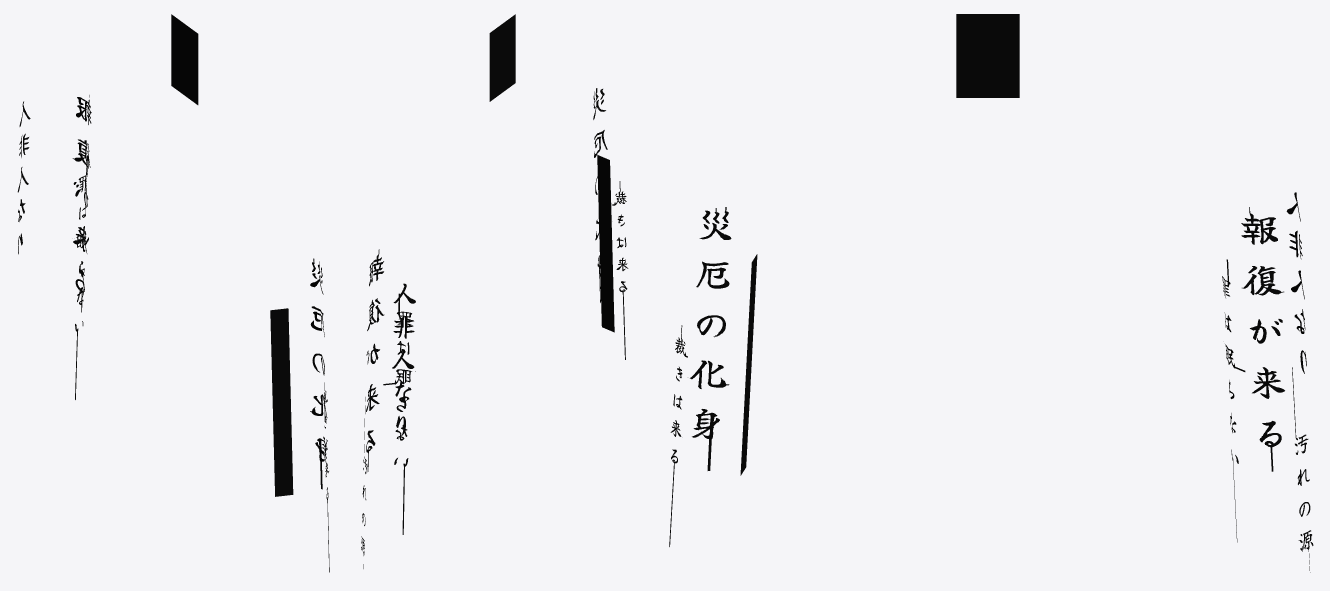
The model's file is Beleidigungen Tori 3.fbx.
3 renders of one model, left to right at view 1: azimuth 30°, elevation 25°; view 2: azimuth 150°, elevation 25°; view 3: azimuth 270°, elevation 25°, orthographic. The views are drawn at different scales.
Visible parts, largest first — view 1: Cylinder.035, Cube.024, Cylinder.015, Cylinder.016, Cylinder.033; view 2: Cylinder.035, Cube.024, Cylinder.016, Cylinder.033, Cylinder.036, Cylinder.015, Cylinder.017; view 3: Cube.024, Cylinder.016, Cylinder.015, Cylinder.035.
Part boxes in pixels (left/top/right/bottom): Cylinder.035: left=270, top=308, right=293, bottom=496; Cube.024: left=171, top=14, right=198, bottom=104; Cylinder.015: left=310, top=258, right=327, bottom=489; Cylinder.016: left=72, top=95, right=91, bottom=312; Cylinder.033: left=75, top=155, right=88, bottom=399; Cylinder.035: left=597, top=155, right=614, bottom=332; Cube.024: left=489, top=14, right=515, bottom=101; Cylinder.016: left=366, top=249, right=384, bottom=471; Cylinder.033: left=383, top=293, right=415, bottom=534; Cylinder.036: left=392, top=283, right=415, bottom=435; Cylinder.015: left=593, top=88, right=607, bottom=302; Cylinder.017: left=612, top=181, right=628, bottom=359; Cube.024: left=956, top=14, right=1019, bottom=97; Cylinder.016: left=1241, top=207, right=1284, bottom=471; Cylinder.015: left=690, top=207, right=731, bottom=470; Cylinder.035: left=740, top=254, right=757, bottom=475.
Bounding box in the file's own units: 1.14 × 8.69 × 9.29.
Materials: 8 (8 with a texture image).
